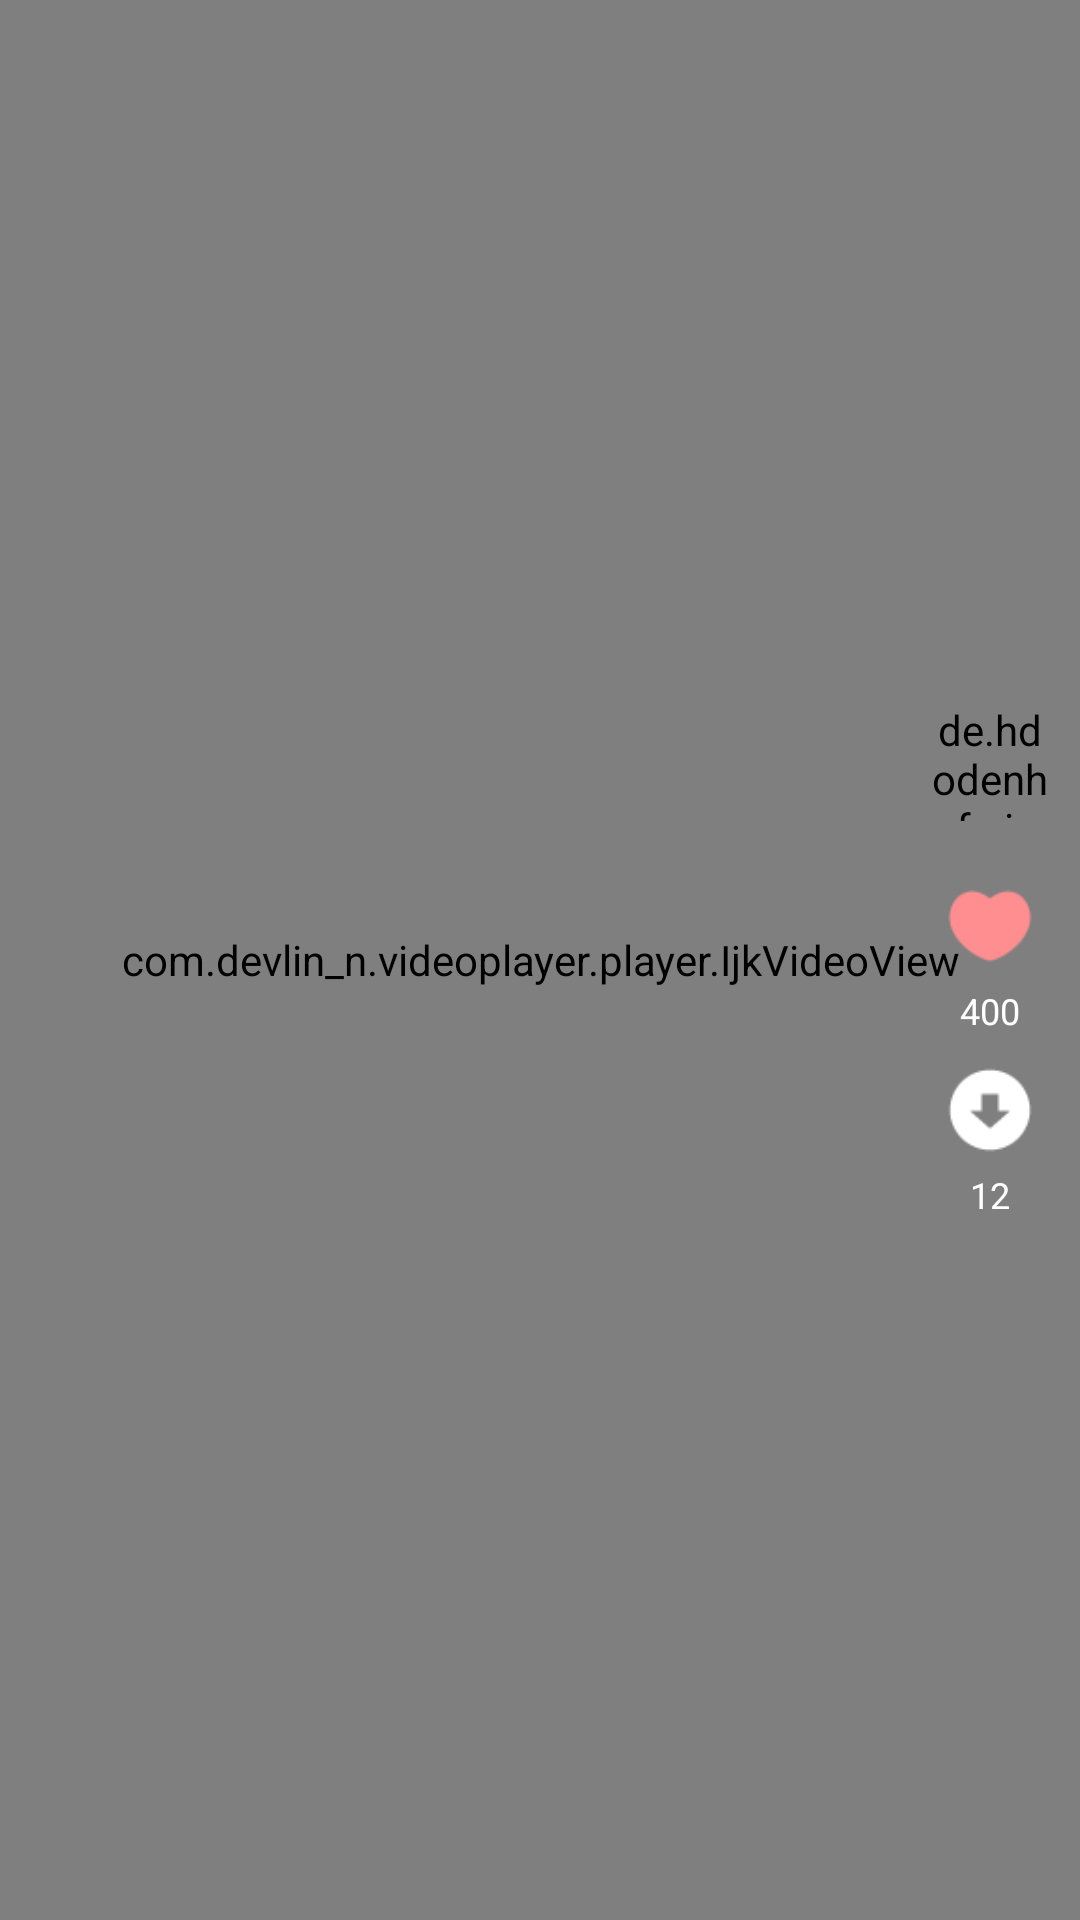

Locate icon controls on the screen. Image size 1080px×1920px, boxes as (x1, y1, x2, y2).
download: (949, 1069, 1031, 1151)
love: (949, 890, 1032, 962)
